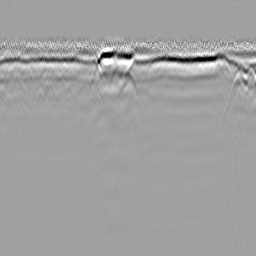cavity: (116, 71, 138, 100)
